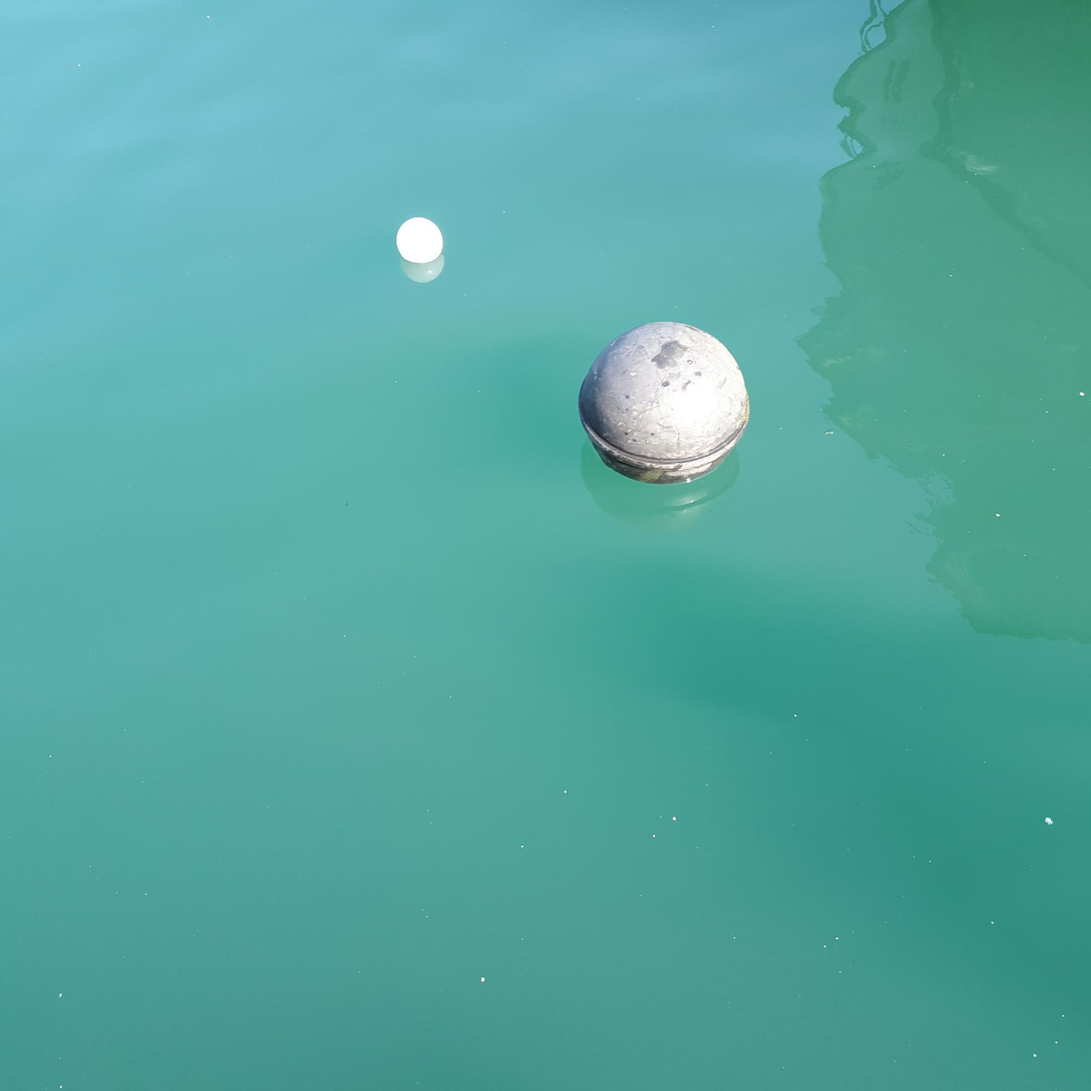sampah_terapung: (579, 322, 750, 485), (396, 218, 444, 264)
